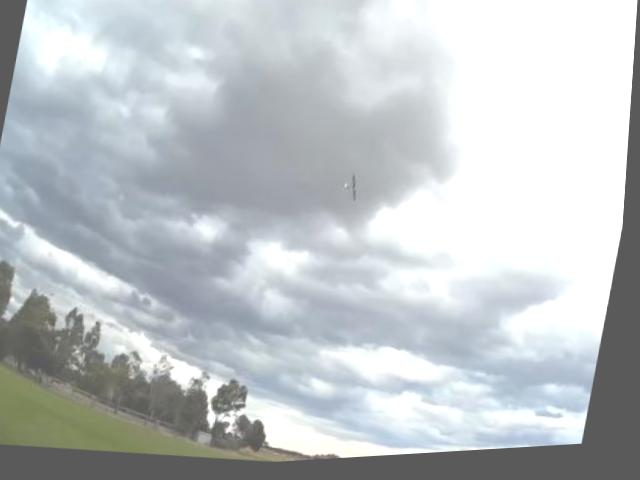uav: (333, 165, 373, 211)
